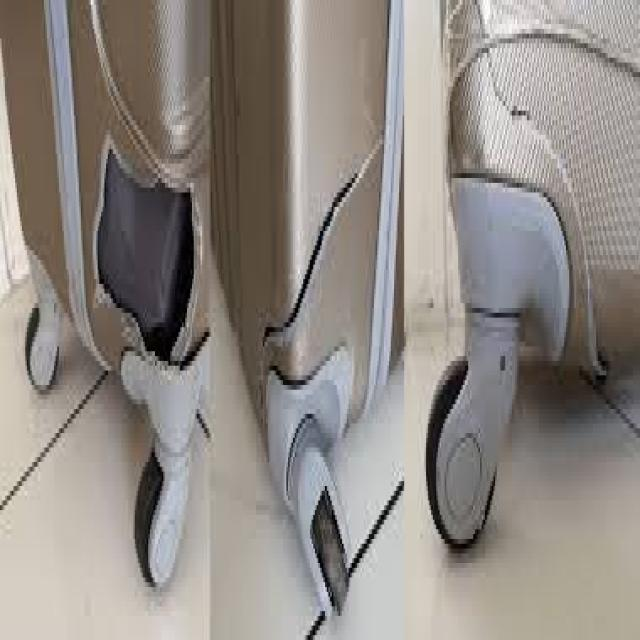Damage-bag: (466, 0, 608, 380), (92, 136, 200, 361), (264, 139, 381, 345)
